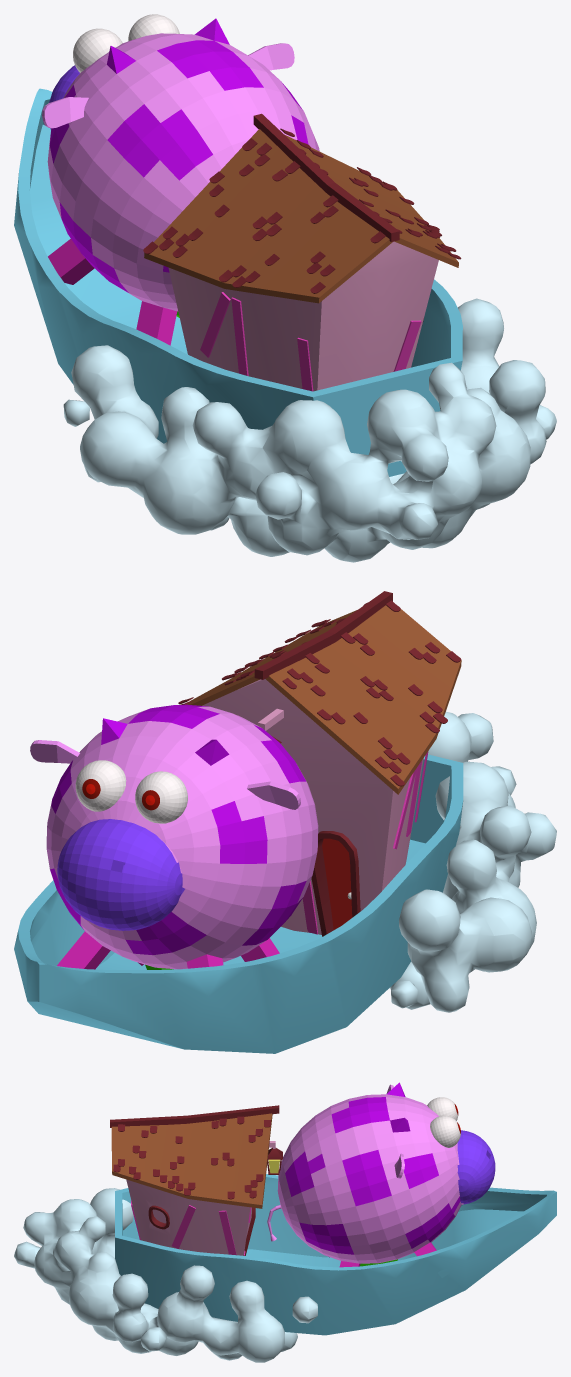
File: SHIPKOROVA.fbx
3 renders of one model, top to bottom at view 1: azimuth 30°, elevation 25°; view 2: azimuth 150°, elevation 25°; view 3: azimuth 270°, elevation 25°, orthographic. The views are drawn at different scales.
Parts seen in each view (by area): view 1: Mball, Sphere.001, Cube, Cube.002, Cube.001, Sphere.007, Cube.003, Sphere.006, Sphere.002, Sphere.004, Plane.078, Plane.077; view 2: Cube, Sphere.001, Mball, Cube.002, Cube.001, Sphere.003, Sphere.007, Sphere.002, Cube.003, Cube.005, Sphere.006, Cube.007 (+1 smaller); view 3: Cube, Mball, Sphere.001, Cube.002, Sphere.007, Cube.001, Sphere.003, Cube.003, Sphere.002, Sphere.004, Plane.074, Plane.075.
Boxes of the visible parts, x1,y1,x2,y2 form: Mball: [63, 298, 556, 562]; Sphere.001: [42, 33, 319, 311]; Cube: [14, 88, 462, 476]; Cube.002: [144, 129, 458, 303]; Cube.001: [168, 241, 438, 391]; Sphere.007: [49, 40, 308, 292]; Cube.003: [253, 113, 399, 241]; Sphere.006: [48, 238, 177, 345]; Sphere.002: [73, 14, 179, 72]; Sphere.004: [107, 18, 229, 73]; Plane.078: [231, 297, 248, 376]; Plane.077: [200, 292, 230, 357]; Cube: [14, 754, 463, 1053]; Sphere.001: [30, 706, 318, 969]; Mball: [389, 711, 556, 1012]; Cube.002: [186, 605, 461, 794]; Cube.001: [202, 679, 423, 934]; Sphere.003: [57, 819, 184, 930]; Sphere.007: [50, 704, 306, 955]; Sphere.002: [75, 760, 187, 823]; Cube.003: [254, 591, 392, 679]; Cube.005: [311, 831, 360, 936]; Sphere.006: [57, 931, 279, 969]; Cube.007: [322, 838, 352, 929]; Cube: [115, 1174, 556, 1335]; Mball: [14, 1188, 317, 1362]; Sphere.001: [267, 1084, 463, 1263]; Cube.002: [111, 1113, 272, 1208]; Sphere.007: [285, 1097, 460, 1254]; Cube.001: [126, 1179, 251, 1255]; Sphere.003: [457, 1130, 495, 1204]; Cube.003: [110, 1105, 279, 1127]; Sphere.002: [427, 1097, 460, 1147]; Sphere.004: [386, 1082, 410, 1132]; Plane.074: [171, 1205, 195, 1248]; Plane.075: [218, 1210, 236, 1255].
Bounding box in the file's own units: 293 × 247 × 518.
